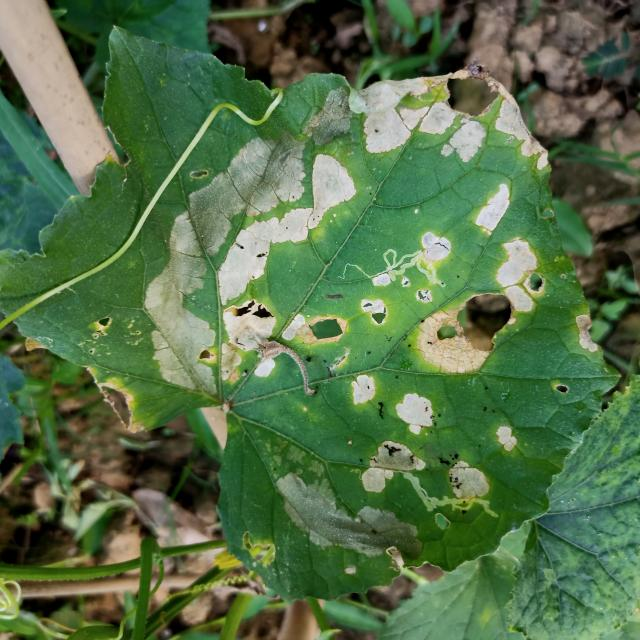disease_cucumber: (136, 85, 424, 398), (414, 72, 572, 379), (281, 376, 525, 557)
